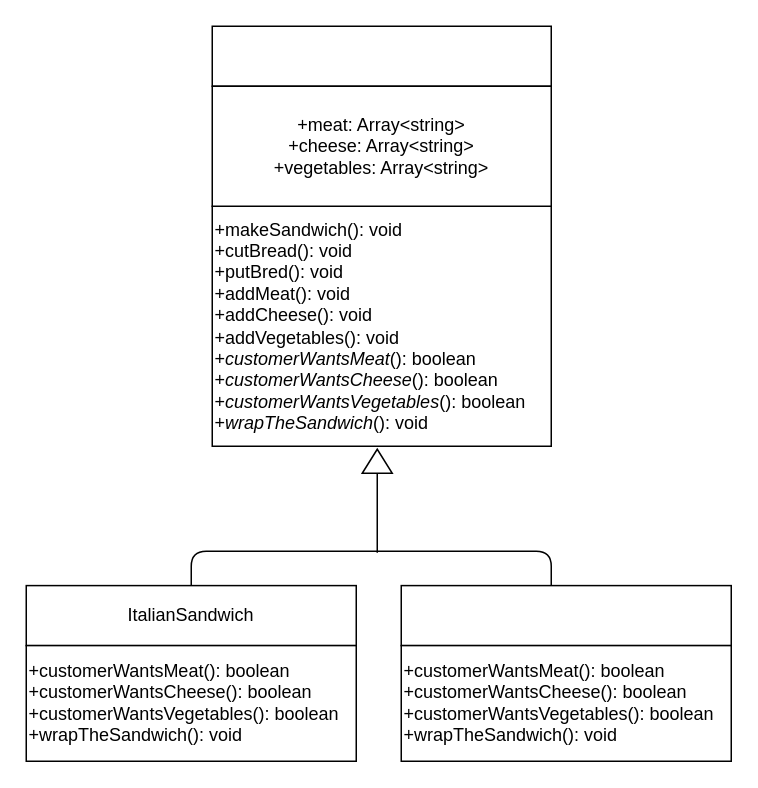
Image size: 758x788. Some labels were removed from this diagram. Each missing label, with the box of its shape:
<abstract> Sandwich: (211, 25, 551, 86)
VegetarianSandwich: (400, 584, 731, 646)
